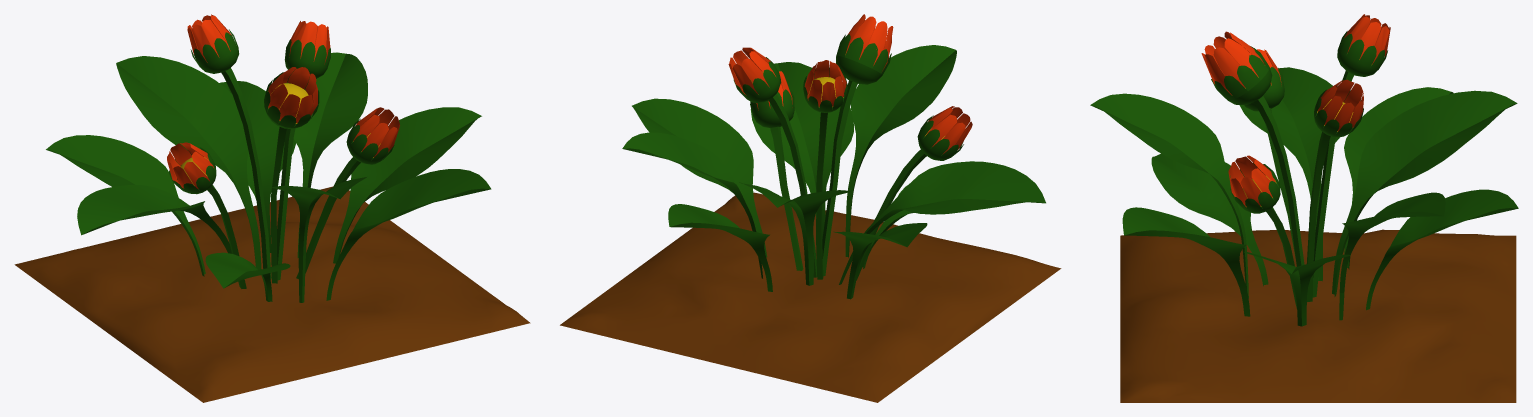
Rendered from orange-daisy-p2-leaf.glb.
3 views of the same model, side by side, from view 1: azimuth 30°, elevation 25°; view 2: azimuth 150°, elevation 25°; view 3: azimuth 270°, elevation 25° (orthographic). The views are drawn at different scales.
Visible parts, largest first — view 1: 2_nft_out_of_bloom; view 2: 2_nft_out_of_bloom; view 3: 2_nft_out_of_bloom.
Boxes of the visible parts, x1,y1,x2,y2 form: 2_nft_out_of_bloom: [14, 14, 530, 402]; 2_nft_out_of_bloom: [560, 14, 1061, 402]; 2_nft_out_of_bloom: [1090, 14, 1518, 402].
Bounding box in the file's own units: 0.885 × 0.5517 × 0.758.
